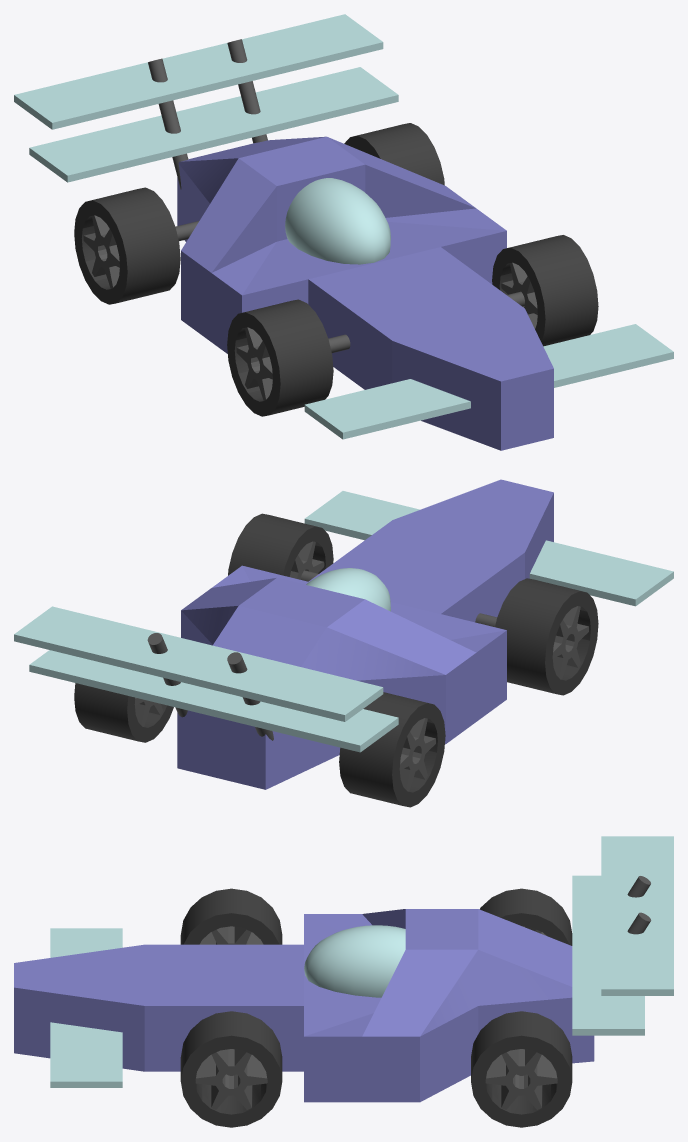
Rendered from CarFBlue.fbx.
The picture shows the model from 3 angles, top to bottom: view 1: azimuth 30°, elevation 25°; view 2: azimuth 150°, elevation 25°; view 3: azimuth 270°, elevation 25°; orthographic projection. The views are drawn at different scales.
Visible parts, largest first — view 1: pCylinder115; view 2: pCylinder115; view 3: pCylinder115.
Boxes of the visible parts, x1,y1,x2,y2 form: pCylinder115: (14, 14, 673, 450); pCylinder115: (14, 479, 673, 807); pCylinder115: (14, 836, 673, 1127).
Size of the model in its own units: 2.5 by 1.21 by 4.55.
